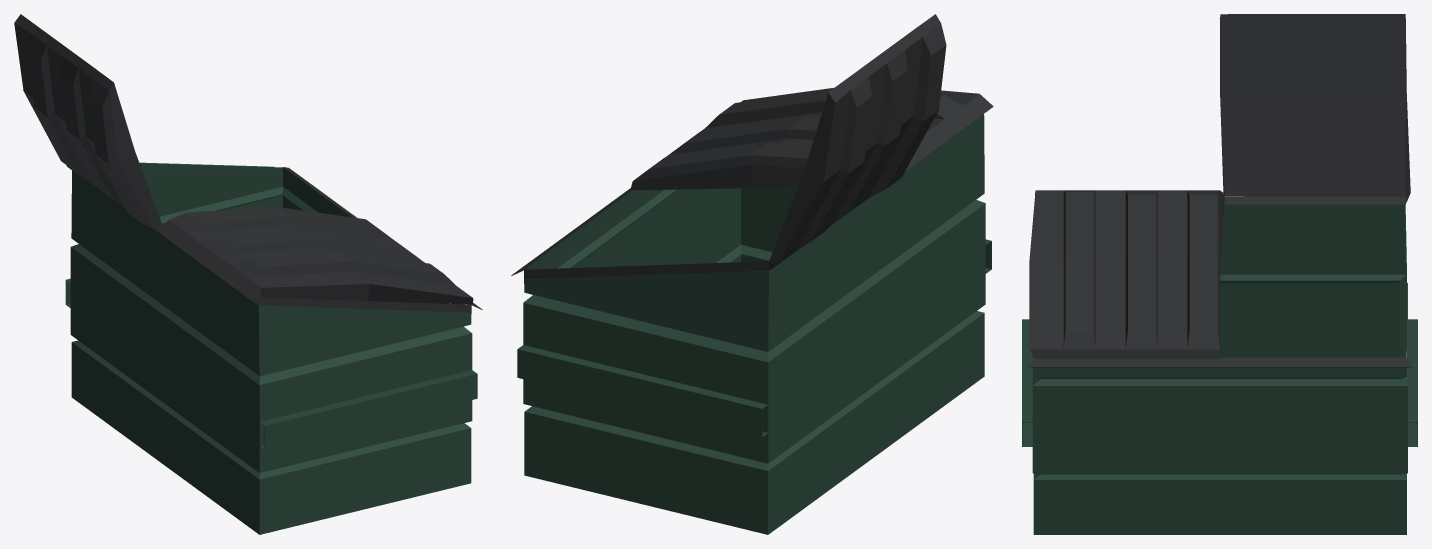
Rendered from dumpsterOpenLid.fbx.
3 views of the same model, side by side, from view 1: azimuth 30°, elevation 25°; view 2: azimuth 150°, elevation 25°; view 3: azimuth 270°, elevation 25° (orthographic). The views are drawn at different scales.
Visible parts, largest first — view 1: Cube; view 2: Cube; view 3: Cube.
Part boxes in pixels (x1,y1,x2,y2): Cube: [14, 14, 482, 534]; Cube: [511, 14, 993, 534]; Cube: [1022, 14, 1417, 534].
Size of the model in its own units: 518 by 695 by 633.
